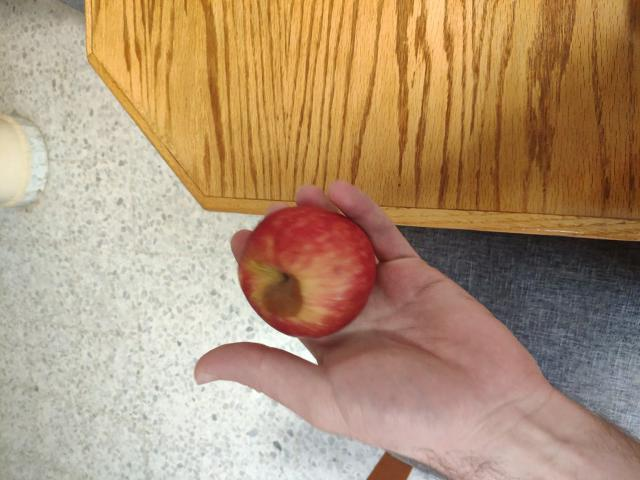apple: (234, 204, 390, 348)
